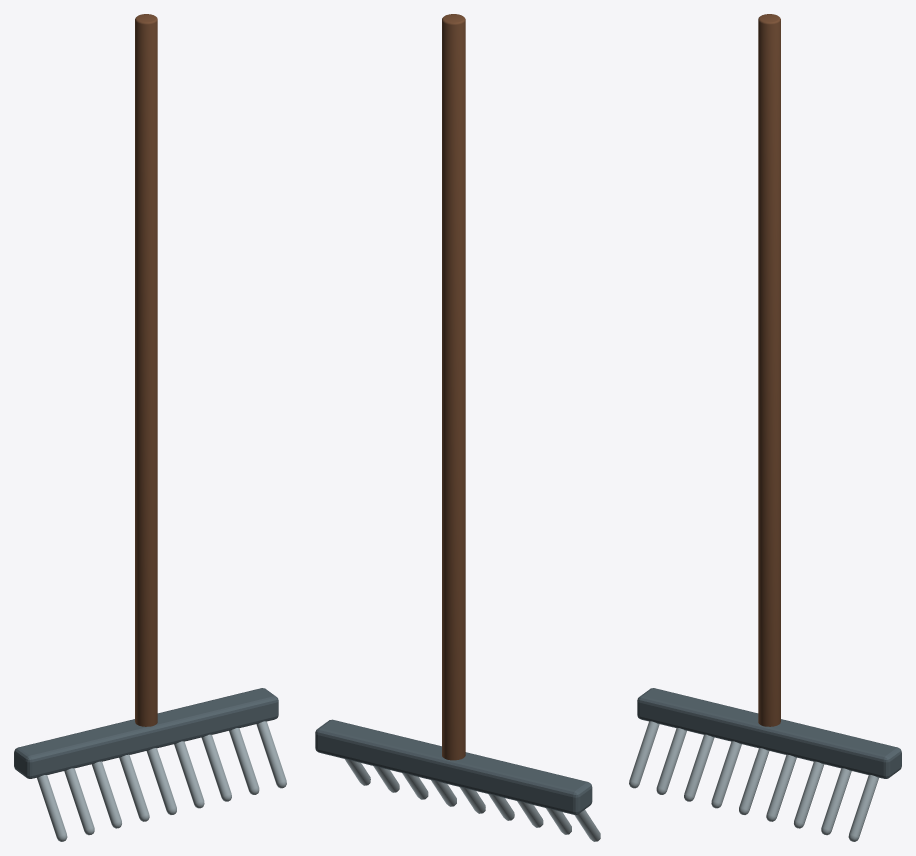
The model's file is rake.glb.
3 renders of one model, left to right at view 1: azimuth 30°, elevation 25°; view 2: azimuth 150°, elevation 25°; view 3: azimuth 330°, elevation 25°, orthographic. The views are drawn at different scales.
Visible parts, largest first — view 1: Wood_handle, Rake_crossbar, Separate_tine.005, Separate_tine.006, Separate_tine.008, Separate_tine.007, Separate_tine.004, Separate_tine.001, Separate_tine.003, Separate_tine.002, Separate_tine; view 2: Wood_handle, Rake_crossbar; view 3: Wood_handle, Rake_crossbar, Separate_tine, Separate_tine.002, Separate_tine.003, Separate_tine.001, Separate_tine.004, Separate_tine.005, Separate_tine.007, Separate_tine.006, Separate_tine.008.
Boxes of the visible parts, x1=… form: Wood_handle: x1=135, y1=14, x2=157, y2=726; Rake_crossbar: x1=14, y1=688, x2=278, y2=778; Separate_tine.005: x1=174, y1=741, x2=204, y2=808; Separate_tine.006: x1=201, y1=734, x2=231, y2=801; Separate_tine.008: x1=256, y1=721, x2=286, y2=788; Separate_tine.007: x1=229, y1=728, x2=259, y2=794; Separate_tine.004: x1=146, y1=748, x2=176, y2=814; Separate_tine.001: x1=64, y1=768, x2=94, y2=835; Separate_tine.003: x1=119, y1=754, x2=149, y2=821; Separate_tine.002: x1=91, y1=761, x2=121, y2=828; Separate_tine: x1=37, y1=775, x2=67, y2=841; Wood_handle: x1=442, y1=14, x2=465, y2=760; Rake_crossbar: x1=315, y1=719, x2=592, y2=814; Wood_handle: x1=758, y1=14, x2=780, y2=726; Rake_crossbar: x1=637, y1=688, x2=901, y2=778; Separate_tine: x1=629, y1=721, x2=659, y2=788; Separate_tine.002: x1=684, y1=734, x2=714, y2=801; Separate_tine.003: x1=711, y1=741, x2=741, y2=808; Separate_tine.001: x1=656, y1=728, x2=686, y2=794; Separate_tine.004: x1=739, y1=748, x2=769, y2=814; Separate_tine.005: x1=766, y1=754, x2=796, y2=821; Separate_tine.007: x1=821, y1=768, x2=851, y2=835; Separate_tine.006: x1=794, y1=761, x2=824, y2=828; Separate_tine.008: x1=848, y1=775, x2=878, y2=841.
Size of the model in its own units: 0.46 by 1.35 by 0.1139.
